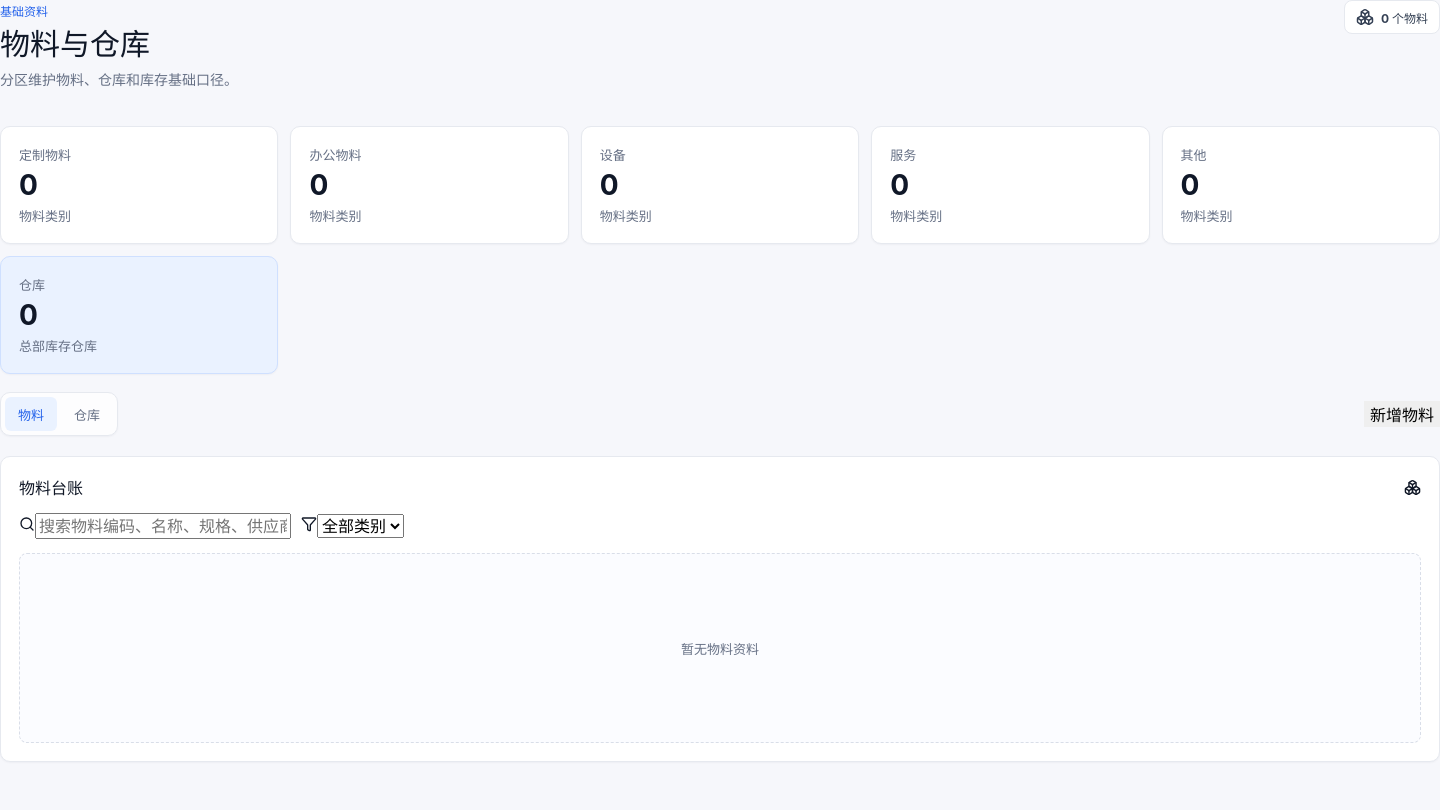
Test: 基础资料 行内校验 › 仓库必填为空时显示行内错误且不调接口
Check: the text "暂无物料资料" is shown, box top-left (681, 639), bottom-right (759, 658)
Click the tab "仓库" at {"x": 87, "y": 414}, box top-left (61, 398), bottom-right (113, 432)
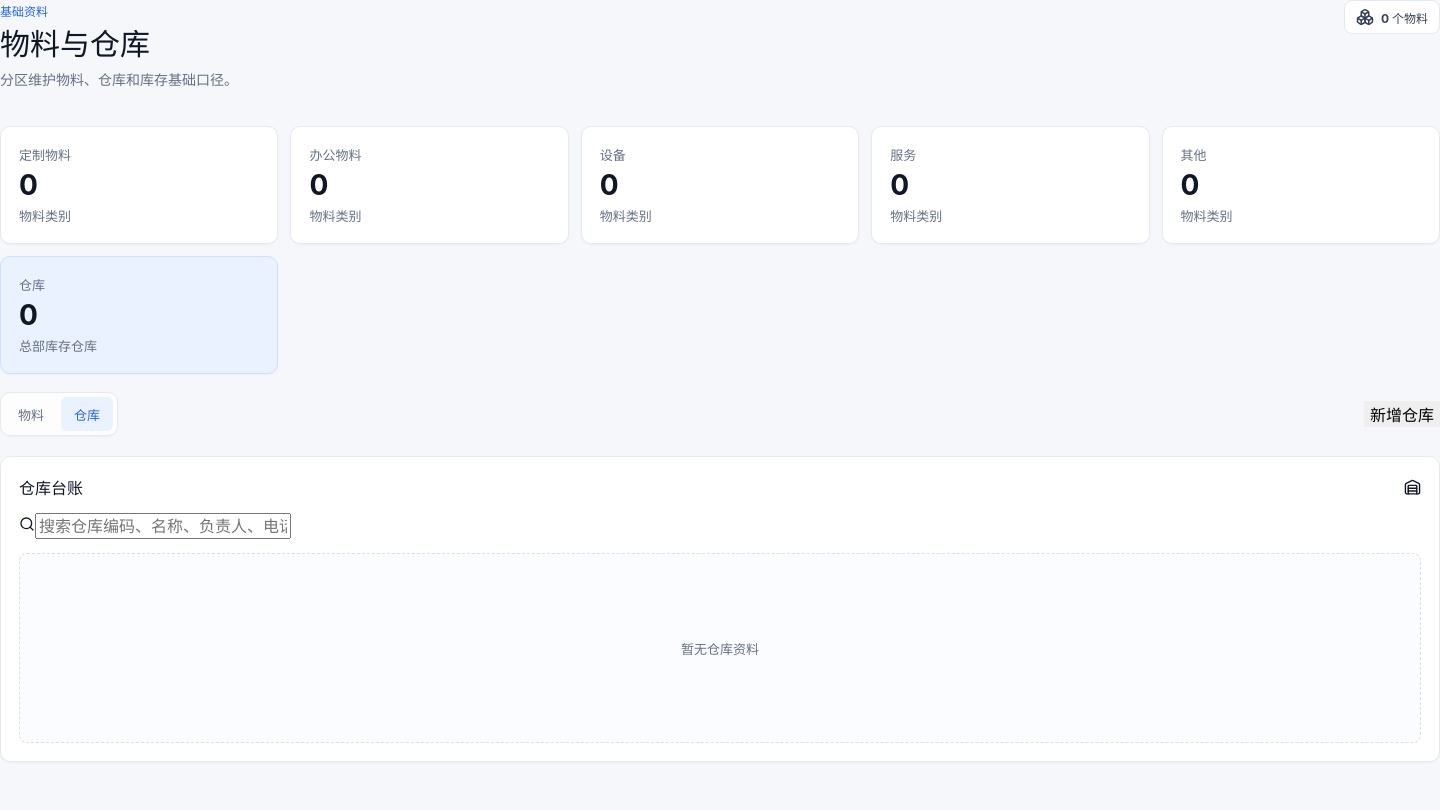
Click the button "新增仓库" at {"x": 1402, "y": 414}, box top-left (1364, 402), bottom-right (1439, 428)
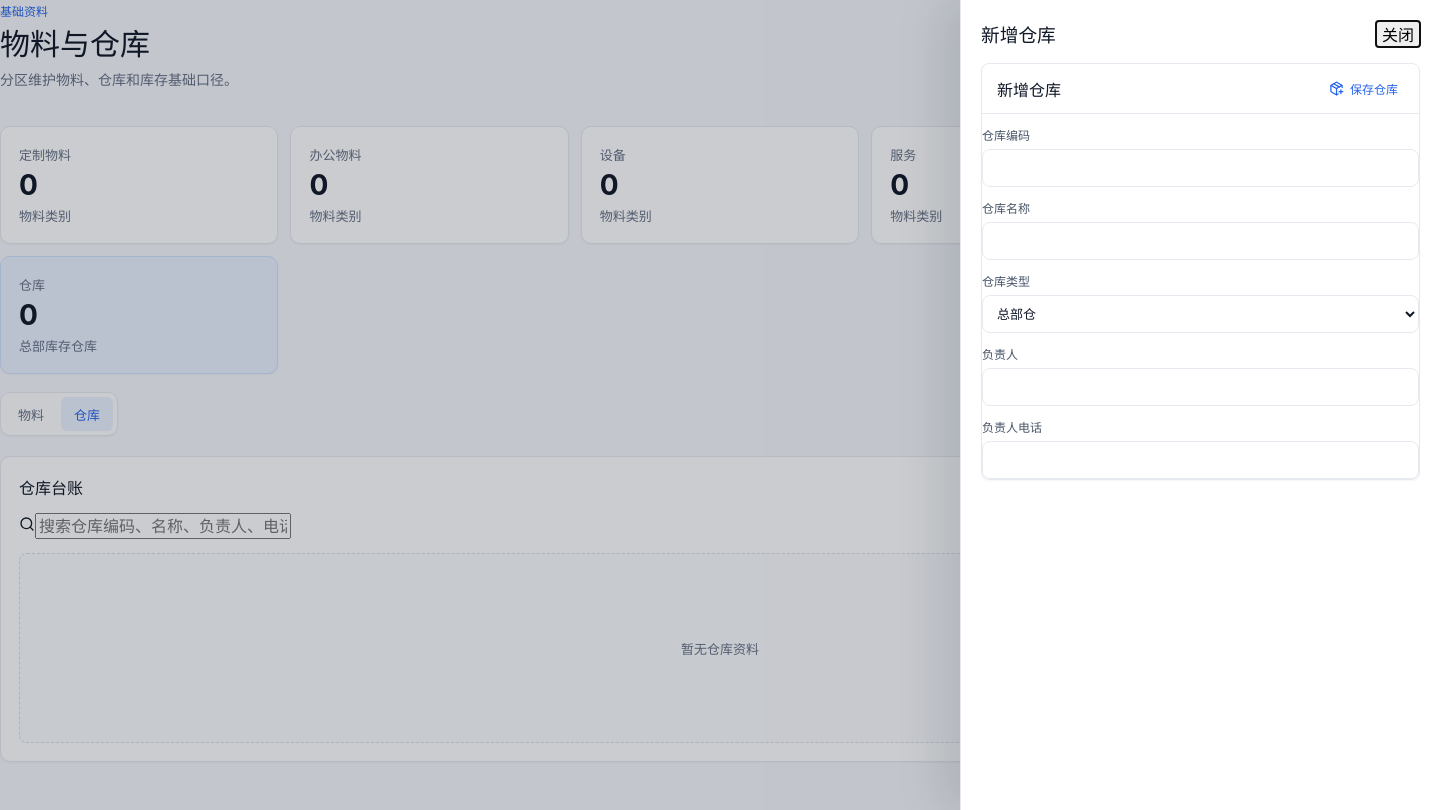
Click the button "保存仓库" at {"x": 1364, "y": 88}, box top-left (1323, 79), bottom-right (1404, 98)
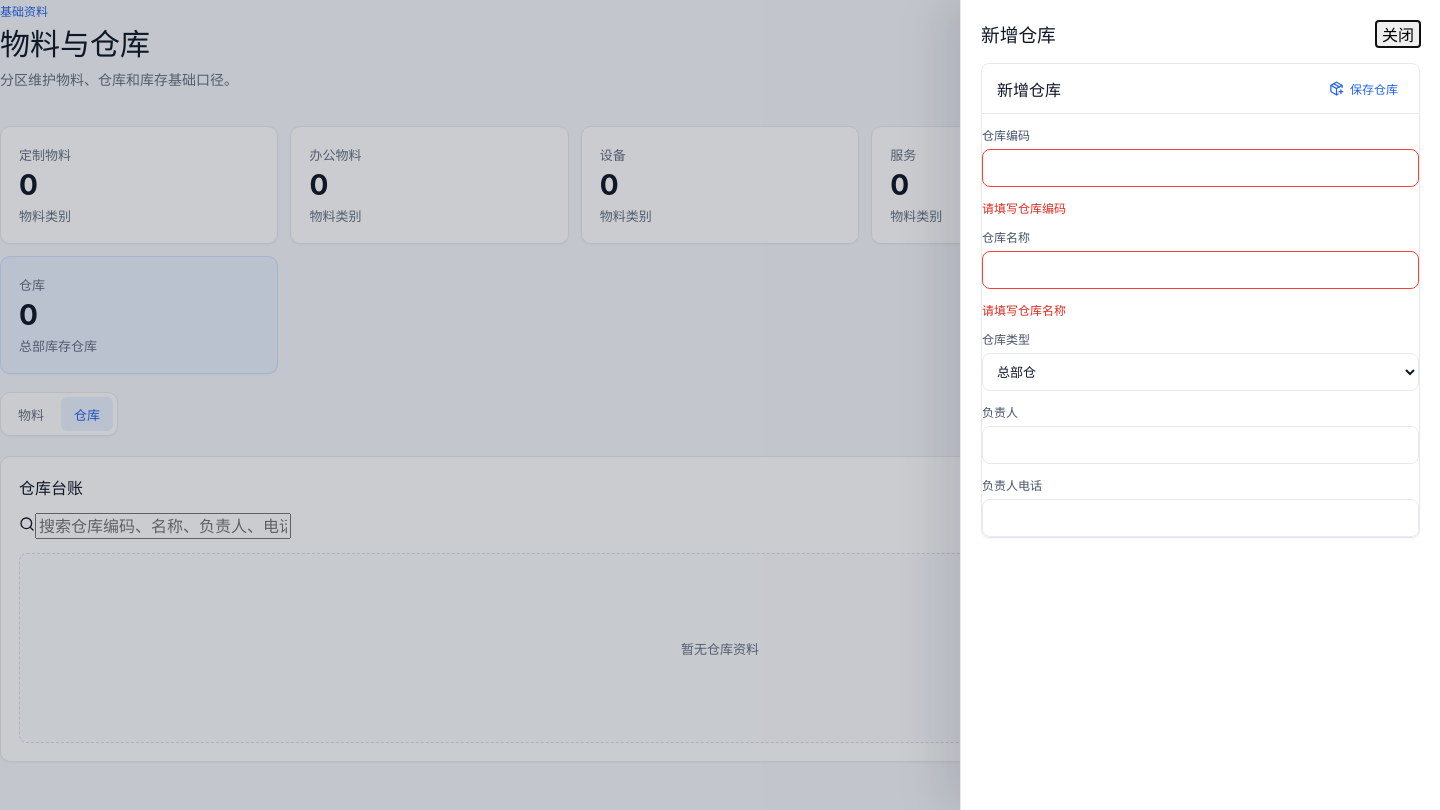
Check: the text "请填写仓库编码" is shown, box top-left (982, 201), bottom-right (1066, 216)
Check: the text "请填写仓库名称" is shown, box top-left (982, 303), bottom-right (1066, 318)
